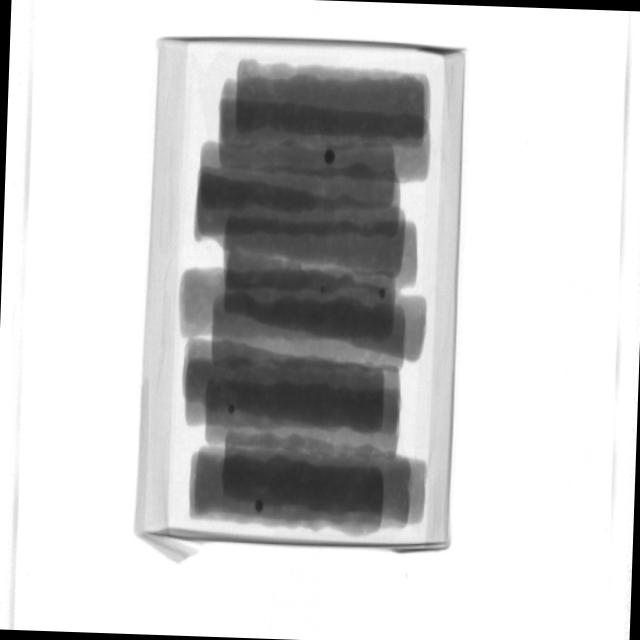ym: (324, 148, 336, 164), (256, 500, 266, 513), (230, 406, 238, 416), (381, 289, 388, 297), (322, 285, 326, 295)
